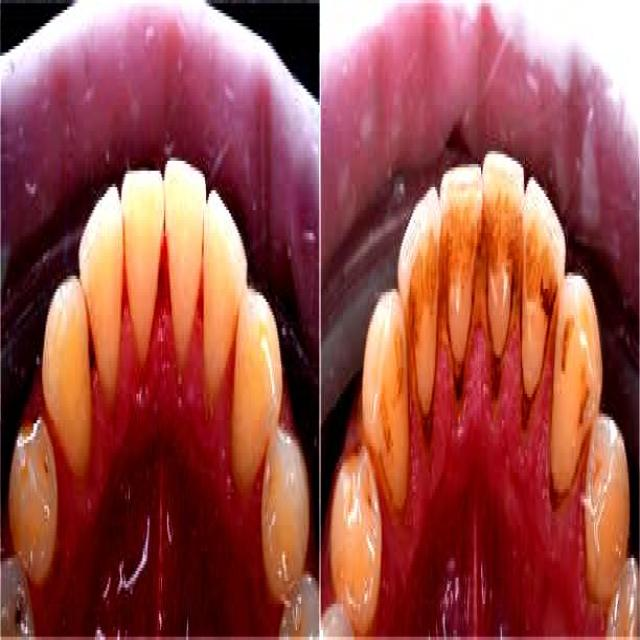caries: (10, 578, 28, 639)
